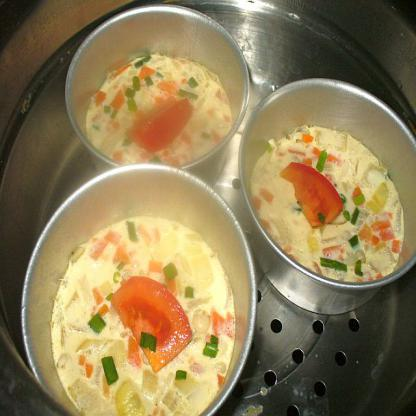Kaithoon: (45, 184, 250, 415), (253, 97, 415, 293), (72, 18, 248, 191)
